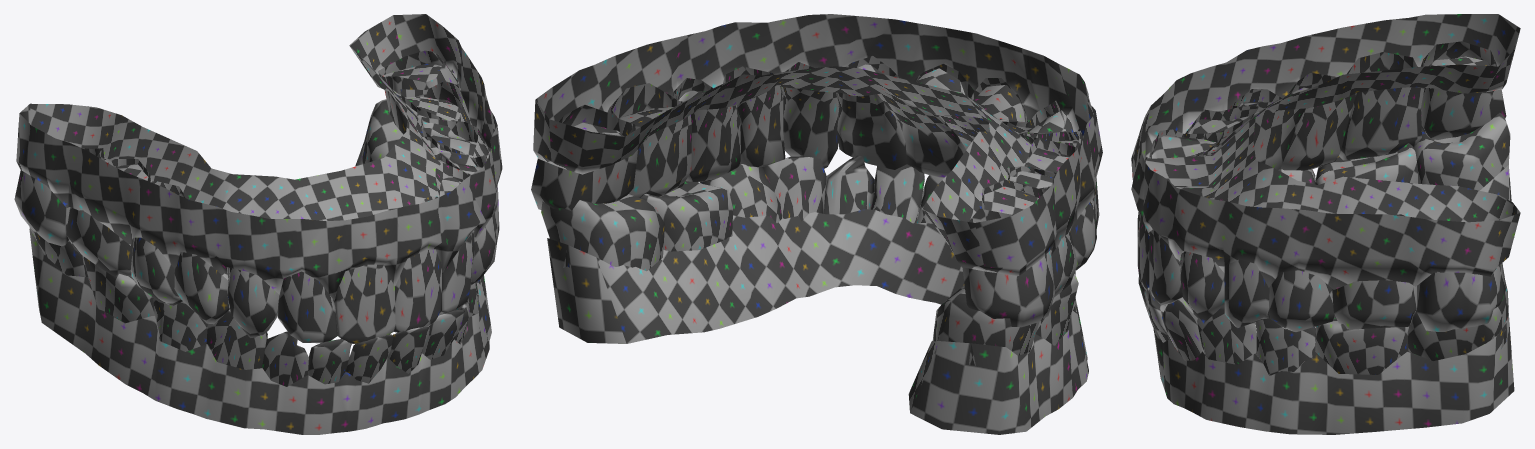
Rendered from Dientes.glb.
The picture shows the model from 3 angles, left to right: view 1: azimuth 30°, elevation 25°; view 2: azimuth 150°, elevation 25°; view 3: azimuth 270°, elevation 25°; orthographic projection. The views are drawn at different scales.
Parts seen in each view (by area): view 1: Dientes; view 2: Dientes; view 3: Dientes.
Part boxes in pixels (bbox=[...]): Dientes: bbox=[14, 14, 502, 434]; Dientes: bbox=[531, 14, 1102, 434]; Dientes: bbox=[1131, 14, 1520, 434].
Size of the model in its own units: 18.09 by 9.71 by 13.63.
Materials: 1 (1 with a texture image).
